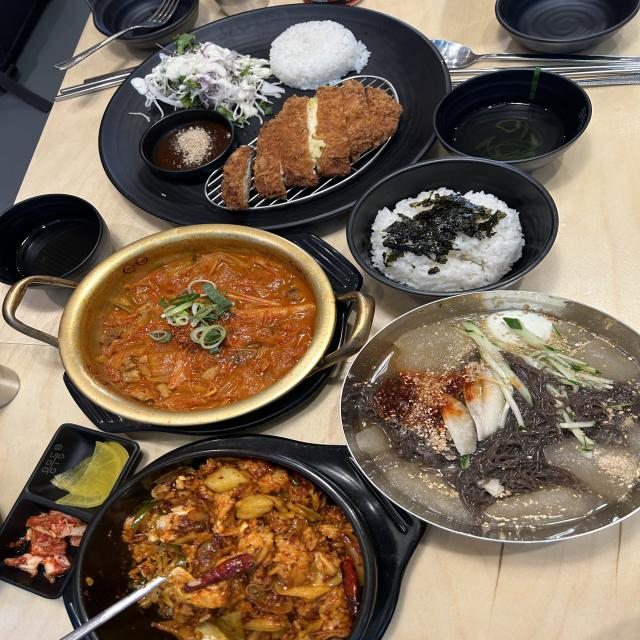Bowl: (340, 290, 640, 544), (62, 434, 427, 639), (71, 224, 336, 426), (346, 156, 559, 299), (433, 68, 593, 173), (0, 190, 99, 292), (494, 0, 639, 55), (138, 108, 235, 178), (86, 0, 200, 50)
Plate: (98, 2, 452, 231), (0, 422, 141, 600)
